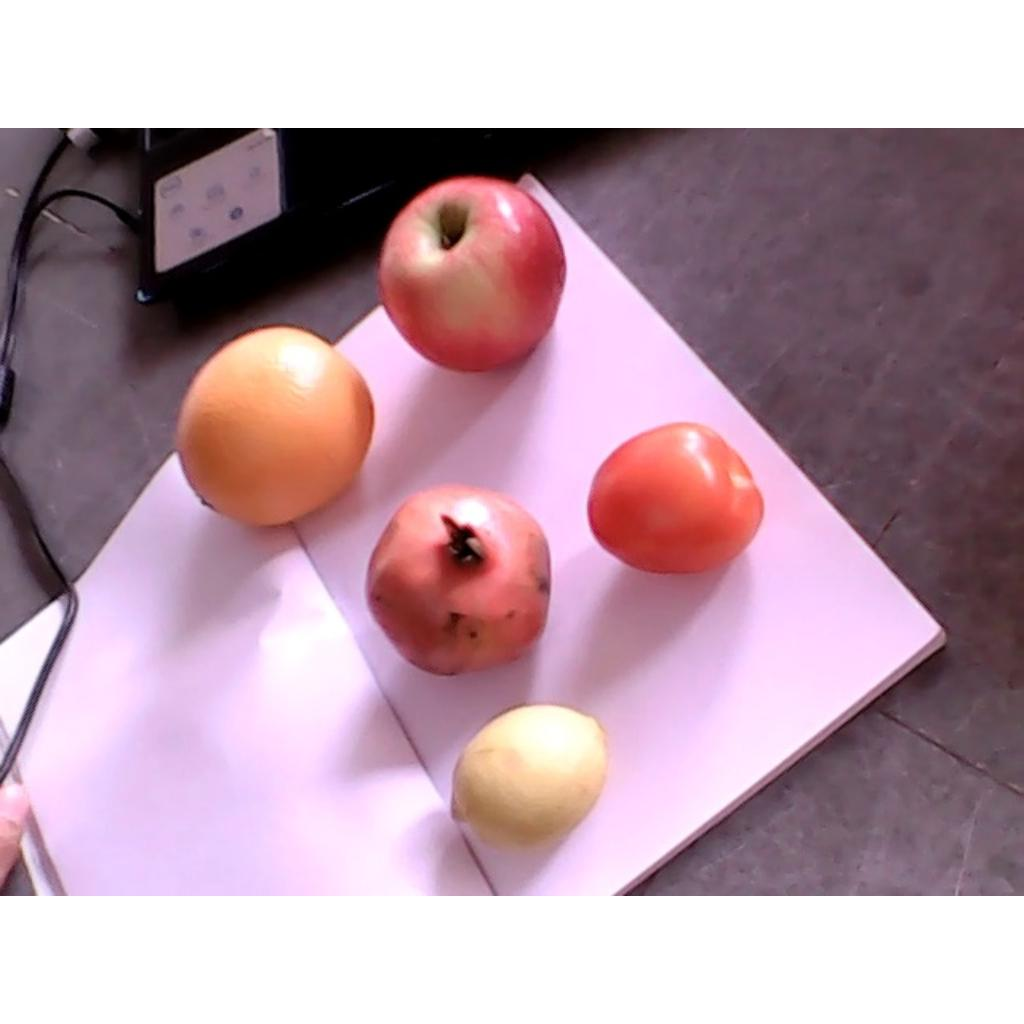apple: (378, 177, 566, 371)
lemon: (450, 703, 611, 854)
orange: (178, 327, 374, 524)
pomegranate: (366, 484, 554, 676)
tomato: (588, 421, 764, 574)
